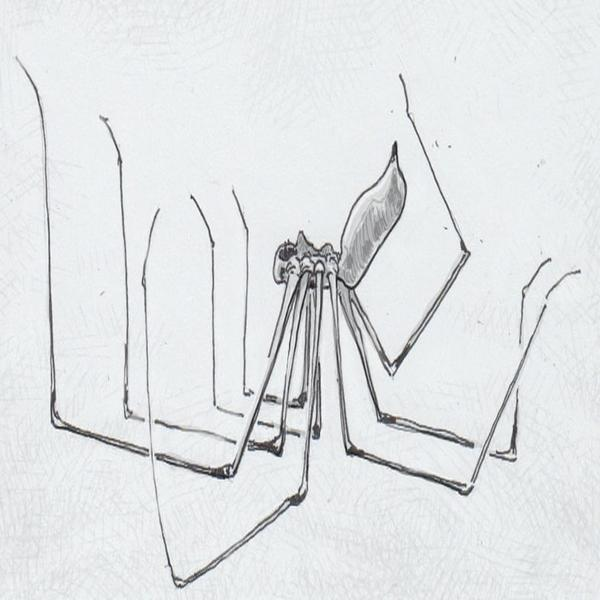Daddy Long Legs Spider: (18, 60, 580, 573)
